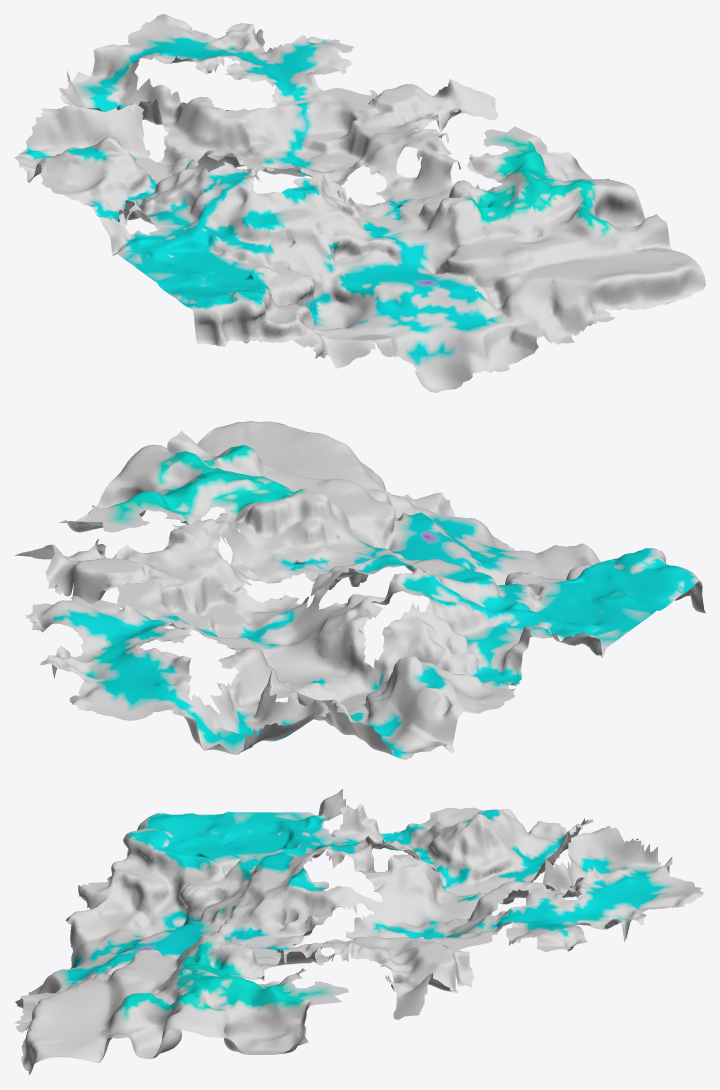
Rendered from terrain_origuv.glb.
3 renders of one model, top to bottom at view 1: azimuth 30°, elevation 25°; view 2: azimuth 150°, elevation 25°; view 3: azimuth 270°, elevation 25°, orthographic. The views are drawn at different scales.
Parts seen in each view (by area): view 1: chinese_project_terrain_p1_263; view 2: chinese_project_terrain_p1_263; view 3: chinese_project_terrain_p1_263.
Boxes of the visible parts, x1,y1,x2,y2 form: chinese_project_terrain_p1_263: (14,14,705,392); chinese_project_terrain_p1_263: (15,421,705,759); chinese_project_terrain_p1_263: (14,789,703,1074).
Size of the model in its own units: 188 by 52.99 by 246.
